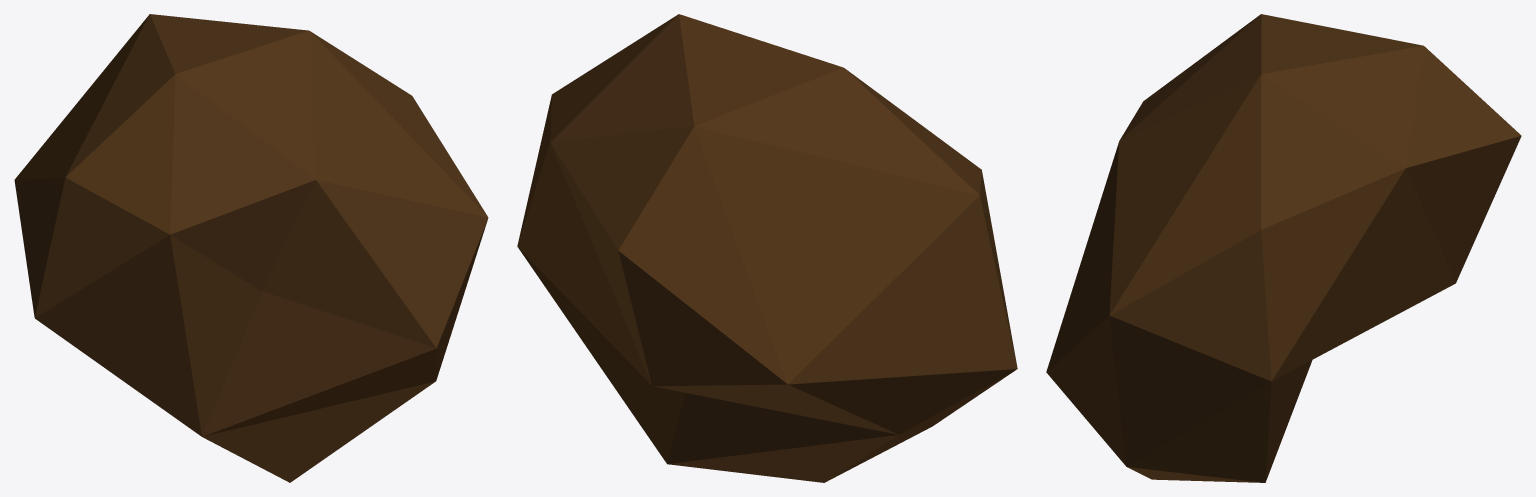
Rendered from asteroid8.fbx.
The picture shows the model from 3 angles, left to right: view 1: azimuth 30°, elevation 25°; view 2: azimuth 150°, elevation 25°; view 3: azimuth 270°, elevation 25°; orthographic projection. The views are drawn at different scales.
Parts seen in each view (by area): view 1: quickmaterial1; view 2: quickmaterial1; view 3: quickmaterial1.
Part boxes in pixels (x1,y1,x2,y2): quickmaterial1: [14, 14, 488, 482]; quickmaterial1: [517, 14, 1017, 482]; quickmaterial1: [1046, 14, 1521, 482].
Size of the model in its own units: 2.67 by 2.54 by 2.47.
